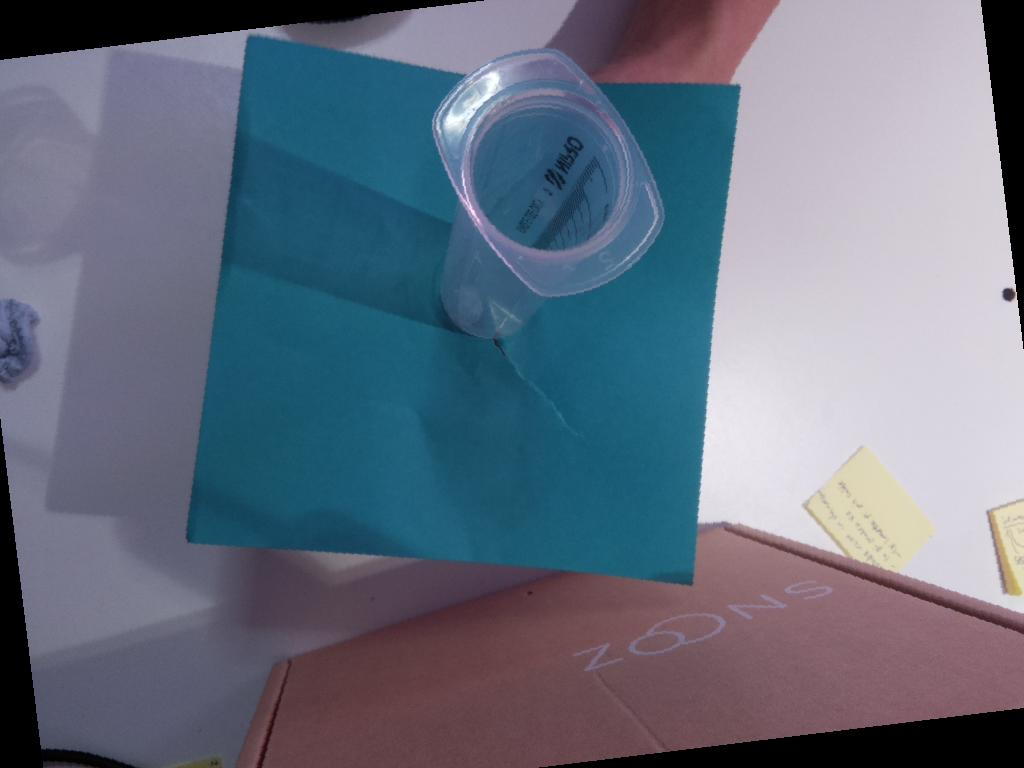clean: (430, 44, 666, 300)
